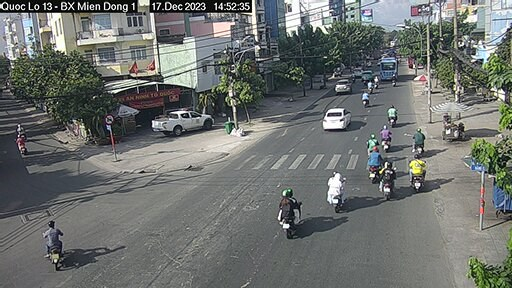bus: (377, 52, 402, 89)
car: (147, 108, 218, 138), (326, 104, 348, 138), (329, 75, 350, 99), (359, 68, 375, 88)
motorbike: (37, 221, 70, 276), (276, 186, 310, 236), (326, 168, 349, 215), (365, 145, 381, 191), (412, 128, 433, 160), (364, 131, 383, 164), (409, 157, 428, 190), (377, 120, 395, 153), (382, 164, 396, 195), (387, 103, 402, 129)
